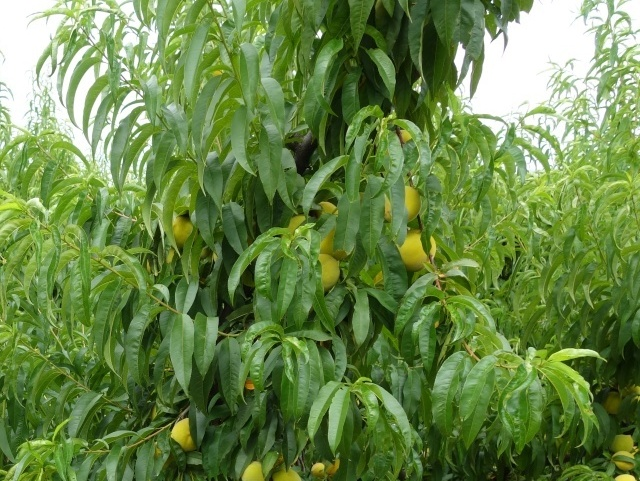peach: (394, 224, 441, 273), (385, 176, 427, 229), (309, 246, 345, 293), (167, 411, 203, 454), (313, 221, 352, 260), (609, 446, 638, 476), (610, 429, 639, 458), (599, 386, 626, 414), (238, 460, 273, 481), (268, 464, 303, 481)
